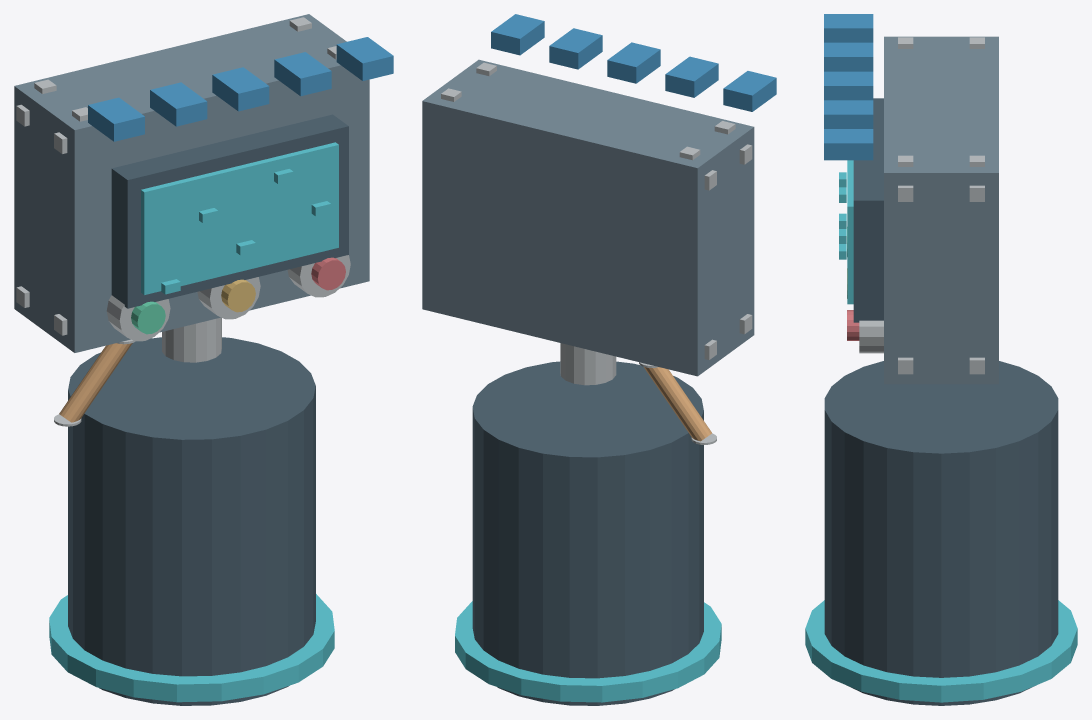
The model's file is 52_L75_WaferRegistrationCamera.glb.
3 renders of one model, left to right at view 1: azimuth 30°, elevation 25°; view 2: azimuth 150°, elevation 25°; view 3: azimuth 270°, elevation 25°, orthographic. The views are drawn at different scales.
Visible parts, largest first — view 1: WaferRegistrationCamera_Node_0031, WaferRegistrationCamera_Node_0000, WaferRegistrationCamera_Node_0010, WaferRegistrationCamera_Node_0009, WaferRegistrationCamera_Node_0032, WaferRegistrationCamera_Node_0022, WaferRegistrationCamera_Node_0023, WaferRegistrationCamera_Node_0027, WaferRegistrationCamera_Node_0028, WaferRegistrationCamera_Node_0029, WaferRegistrationCamera_Node_0030, WaferRegistrationCamera_Node_0026 (+6 smaller); view 2: WaferRegistrationCamera_Node_0000, WaferRegistrationCamera_Node_0031, WaferRegistrationCamera_Node_0032, WaferRegistrationCamera_Node_0022, WaferRegistrationCamera_Node_0023, WaferRegistrationCamera_Node_0026, WaferRegistrationCamera_Node_0028, WaferRegistrationCamera_Node_0027, WaferRegistrationCamera_Node_0029, WaferRegistrationCamera_Node_0030; view 3: WaferRegistrationCamera_Node_0031, WaferRegistrationCamera_Node_0000, WaferRegistrationCamera_Node_0032, WaferRegistrationCamera_Node_0009, WaferRegistrationCamera_Node_0030, WaferRegistrationCamera_Node_0027, WaferRegistrationCamera_Node_0028, WaferRegistrationCamera_Node_0026, WaferRegistrationCamera_Node_0029, WaferRegistrationCamera_Node_0010, WaferRegistrationCamera_Node_0020.
Boxes of the visible parts, x1,y1,x2,y2 form: WaferRegistrationCamera_Node_0031: (68,337,315,705); WaferRegistrationCamera_Node_0000: (14,14,369,352); WaferRegistrationCamera_Node_0010: (141,142,338,294); WaferRegistrationCamera_Node_0009: (111,114,348,308); WaferRegistrationCamera_Node_0032: (49,594,334,702); WaferRegistrationCamera_Node_0022: (162,317,221,362); WaferRegistrationCamera_Node_0023: (59,343,132,422); WaferRegistrationCamera_Node_0027: (150,82,207,126); WaferRegistrationCamera_Node_0028: (212,67,269,111); WaferRegistrationCamera_Node_0029: (274,52,331,96); WaferRegistrationCamera_Node_0030: (336,37,393,80); WaferRegistrationCamera_Node_0026: (88,97,144,141); WaferRegistrationCamera_Node_0000: (422,59,754,376); WaferRegistrationCamera_Node_0031: (472,361,703,705); WaferRegistrationCamera_Node_0032: (455,601,721,702); WaferRegistrationCamera_Node_0022: (560,343,616,385); WaferRegistrationCamera_Node_0023: (644,367,711,441); WaferRegistrationCamera_Node_0026: (723,71,776,111); WaferRegistrationCamera_Node_0028: (607,42,660,83); WaferRegistrationCamera_Node_0027: (665,56,718,97); WaferRegistrationCamera_Node_0029: (549,28,602,69); WaferRegistrationCamera_Node_0030: (491,14,544,55); WaferRegistrationCamera_Node_0031: (824,361,1058,705); WaferRegistrationCamera_Node_0000: (884,36,998,384); WaferRegistrationCamera_Node_0032: (805,600,1077,702); WaferRegistrationCamera_Node_0009: (853,98,883,322); WaferRegistrationCamera_Node_0030: (824,129,873,160); WaferRegistrationCamera_Node_0027: (824,42,873,71); WaferRegistrationCamera_Node_0028: (824,71,873,100); WaferRegistrationCamera_Node_0026: (824,14,873,42); WaferRegistrationCamera_Node_0029: (824,100,873,128); WaferRegistrationCamera_Node_0010: (847,160,853,304); WaferRegistrationCamera_Node_0020: (859,320,883,353).
Size of the model in its own units: 0.54 by 1.03 by 0.44.
